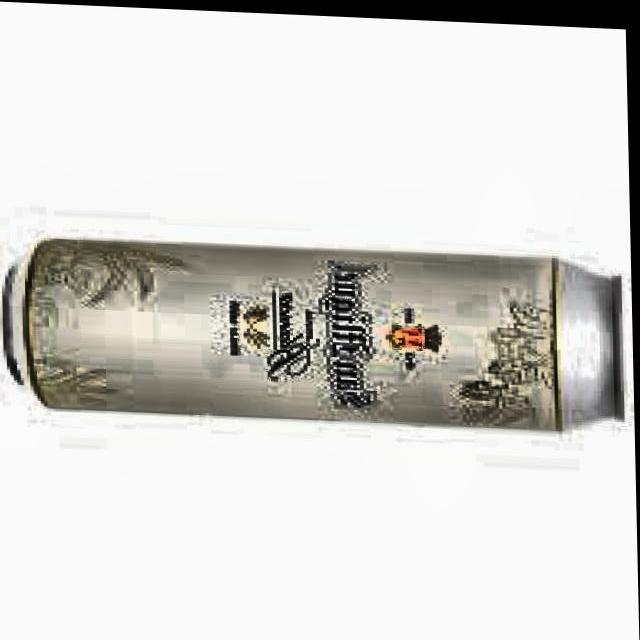Aluminum Can: (0, 218, 636, 441)
